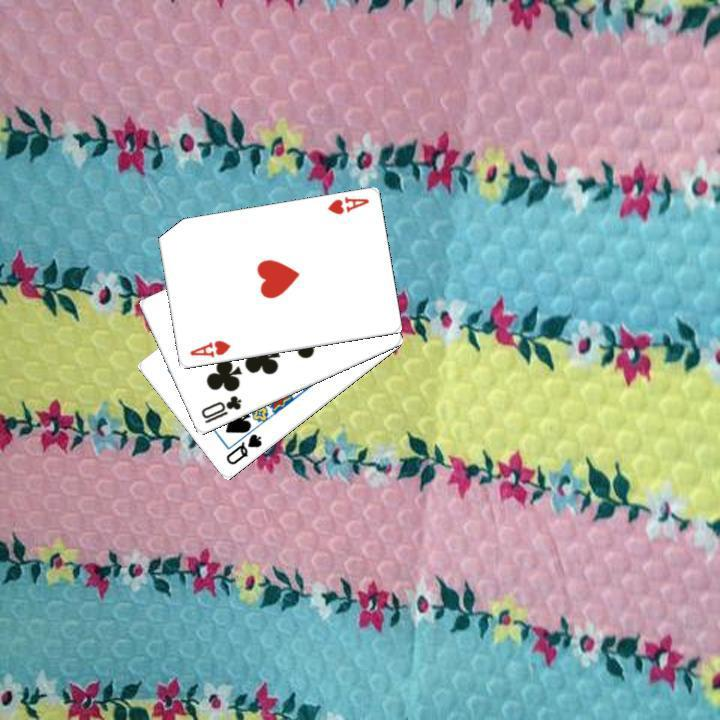10: (196, 391, 244, 426)
A: (323, 193, 371, 217), (185, 336, 232, 360)
Q: (221, 430, 264, 467)
